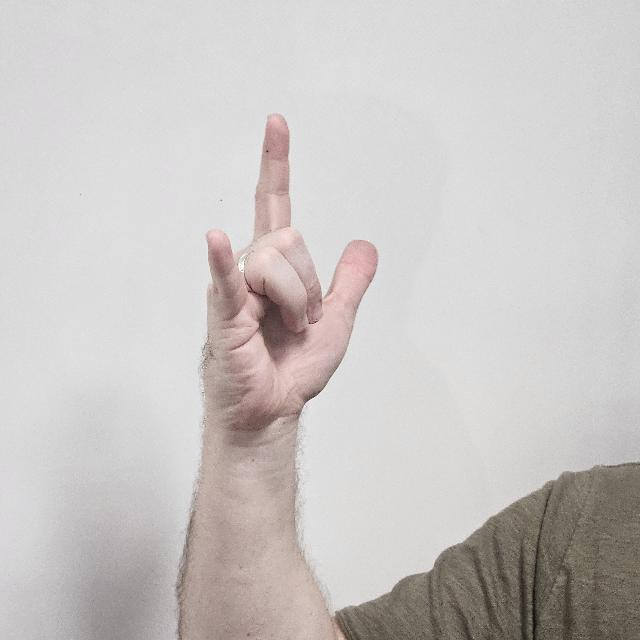Cima: (198, 108, 376, 440)
